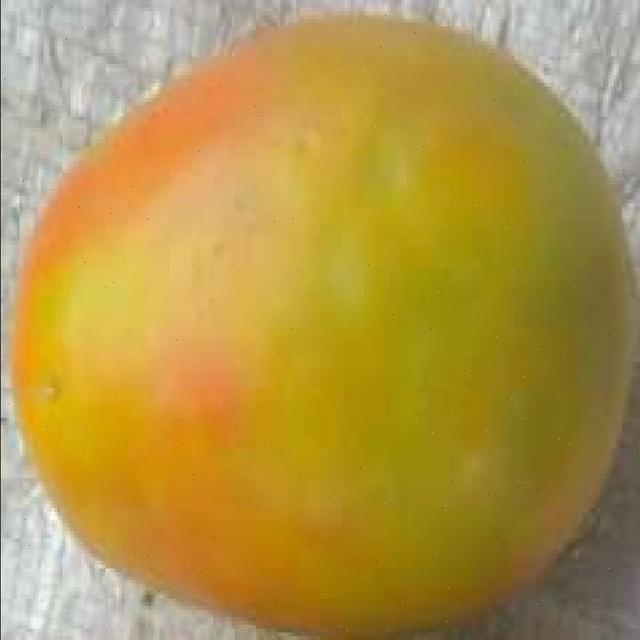Spotted wilt Virus Fruit: (113, 218, 429, 635)
